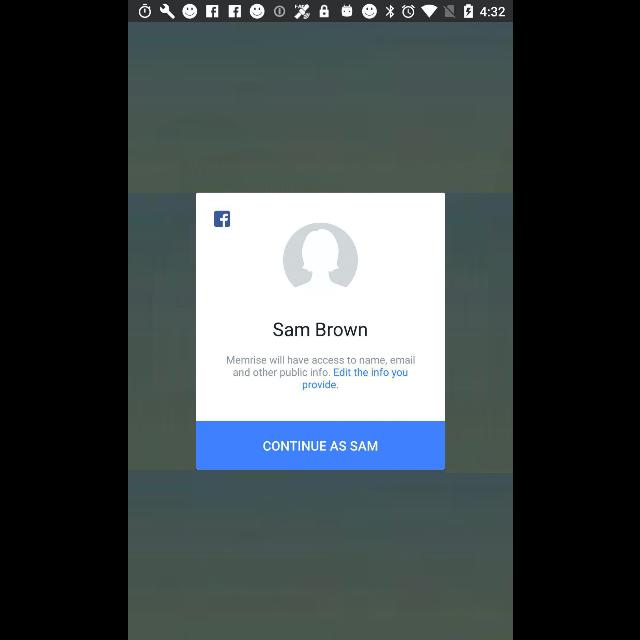icon: (282, 222, 358, 288), (213, 210, 230, 228)
panel: (196, 192, 444, 470)
text: (226, 356, 414, 390), (272, 323, 366, 337)
textbutton: (196, 422, 444, 470)
uppertaskbar: (128, 1, 512, 23)
